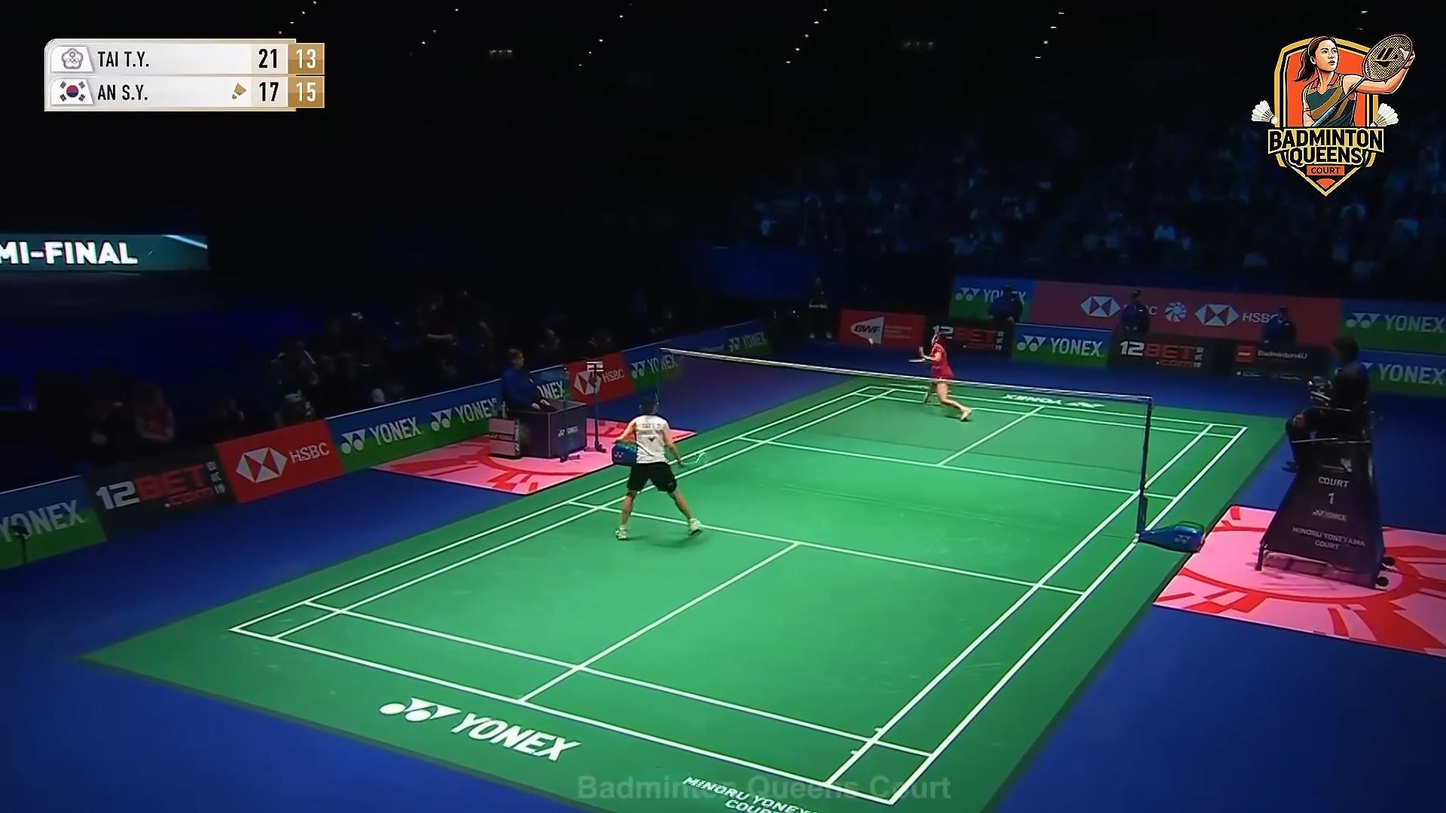player: (613, 393, 702, 542), (915, 330, 975, 423)
shuttlecock: (869, 337, 876, 347)
